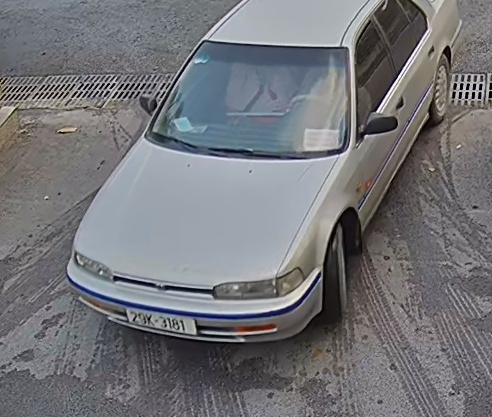vehicle plate: (122, 303, 196, 337)
